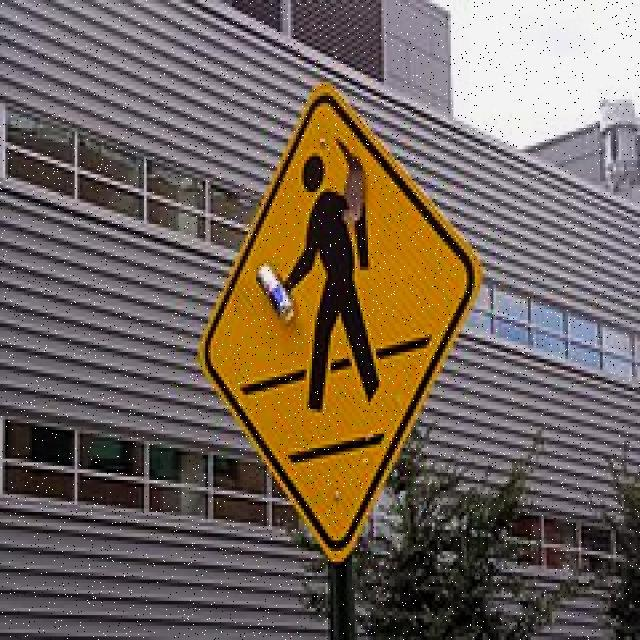Traffic sign: (198, 79, 486, 567)
